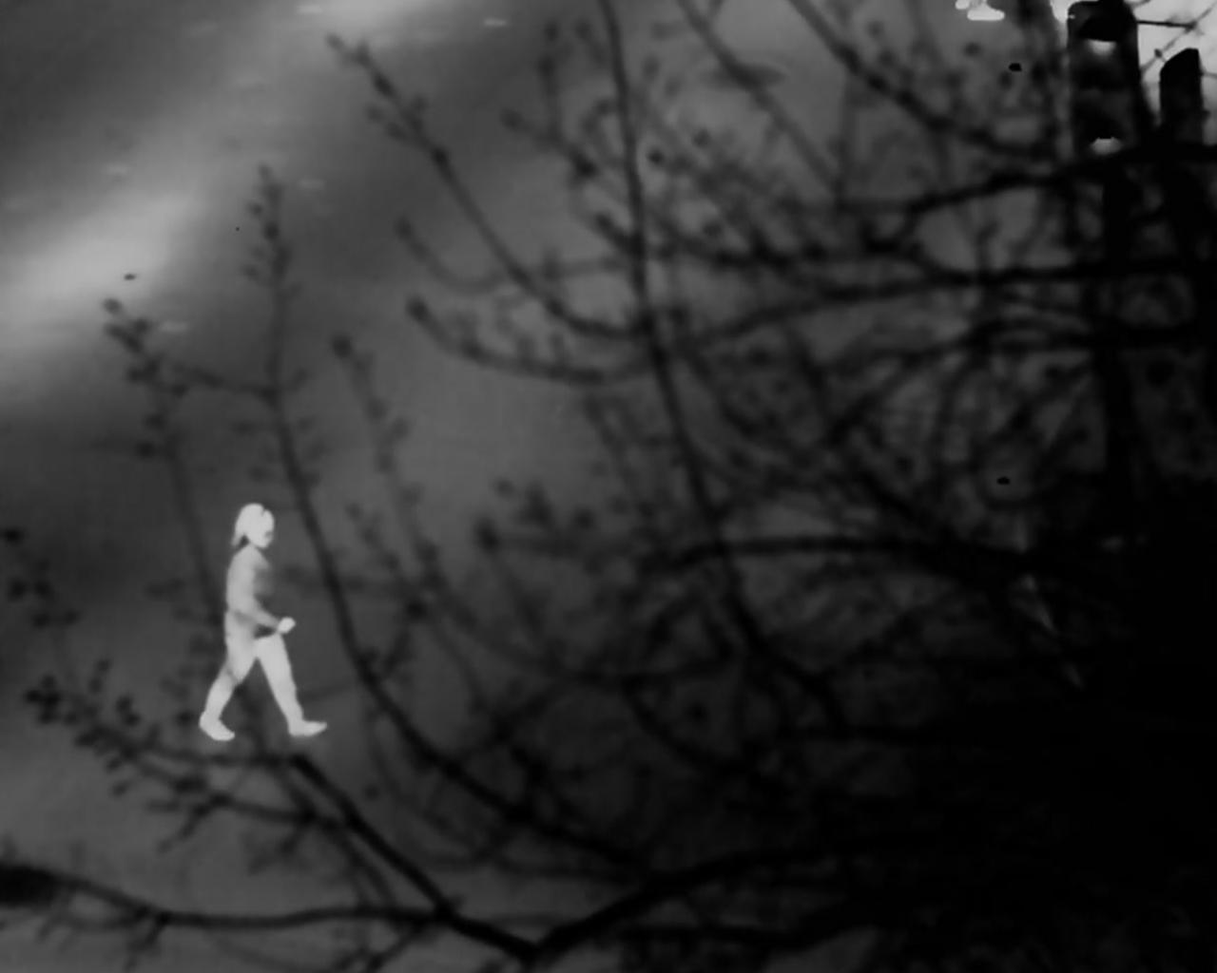person: (205, 506, 338, 746)
